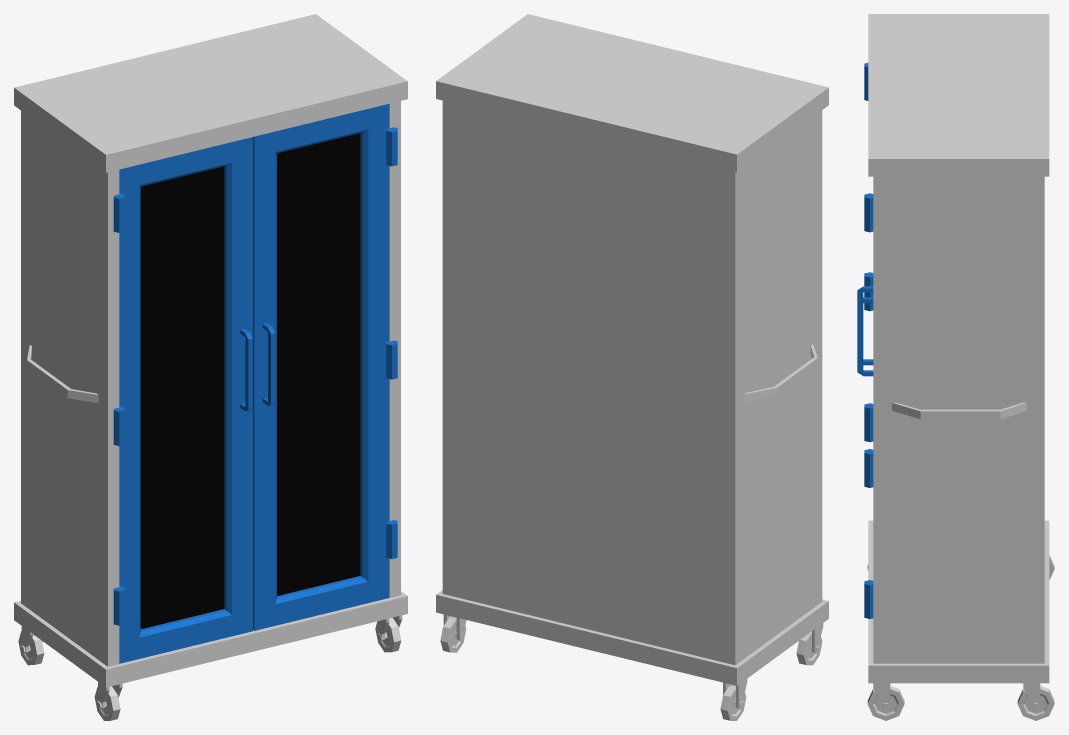
The model's file is Ph_closet_5.fbx.
3 views of the same model, side by side, from view 1: azimuth 30°, elevation 25°; view 2: azimuth 150°, elevation 25°; view 3: azimuth 270°, elevation 25° (orthographic).
Visible parts, largest first — view 1: Symmetry_8, Cylinder_2, Symmetry_10; view 2: Symmetry_8; view 3: Symmetry_8, Cylinder_2, Symmetry_10.
Part boxes in pixels (x1,y1,x2,y2): Symmetry_8: [14, 14, 407, 720]; Cylinder_2: [253, 104, 397, 630]; Symmetry_10: [113, 137, 252, 663]; Symmetry_8: [436, 14, 828, 720]; Symmetry_8: [867, 14, 1054, 720]; Cylinder_2: [857, 193, 873, 618]; Symmetry_10: [857, 63, 873, 487].
Bounding box in the file's own units: 114 × 190 × 60.17.
